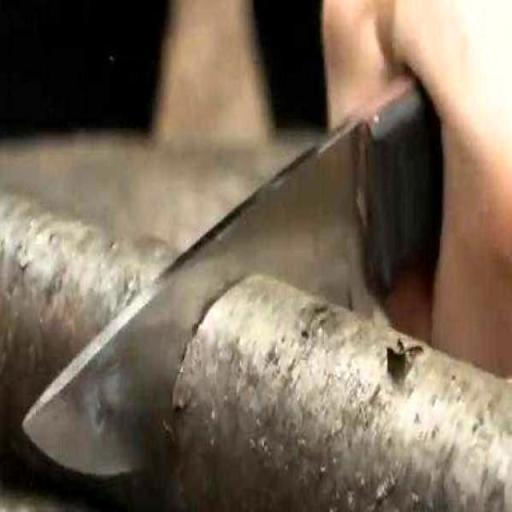knife: (23, 46, 457, 500)
